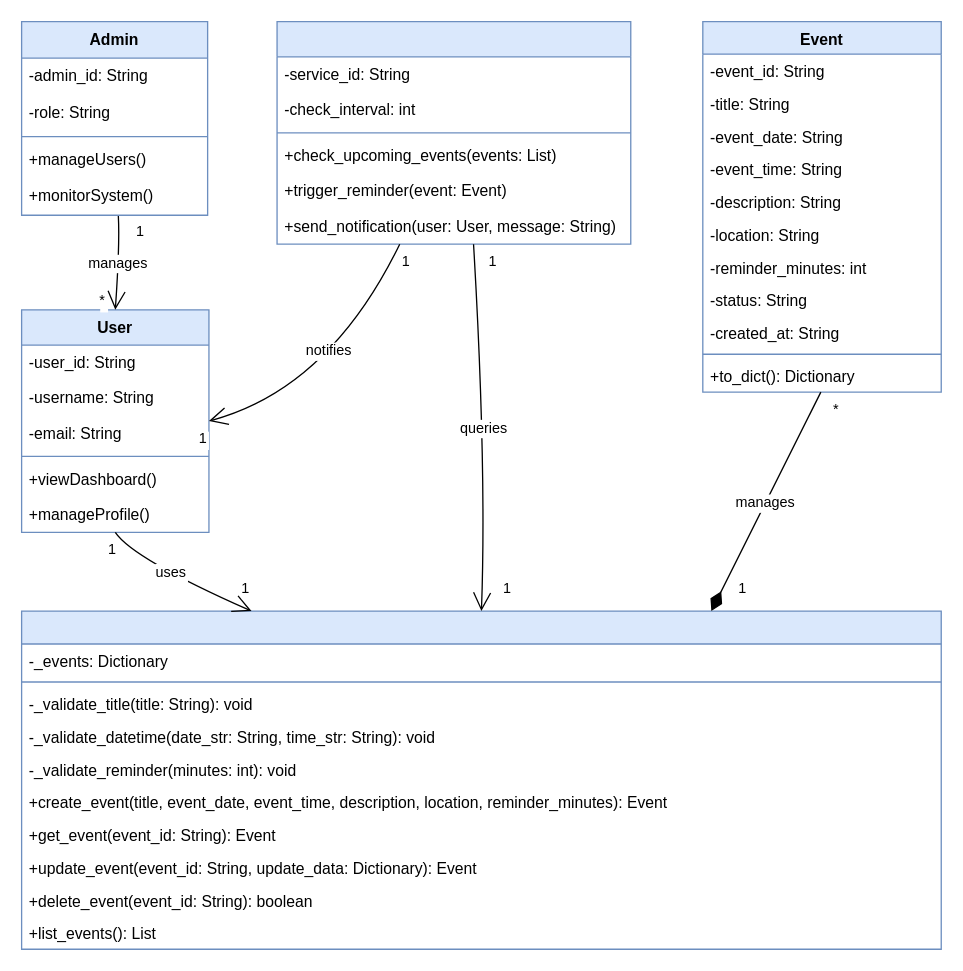
Some shapes in this 963 by 971 pixel diagram are drawn without their labels. Here are the shapes that lost their labels. From the top down, the box of each, then its label:
(276, 20, 631, 244): NotificationService
(20, 610, 941, 949): EventManager
